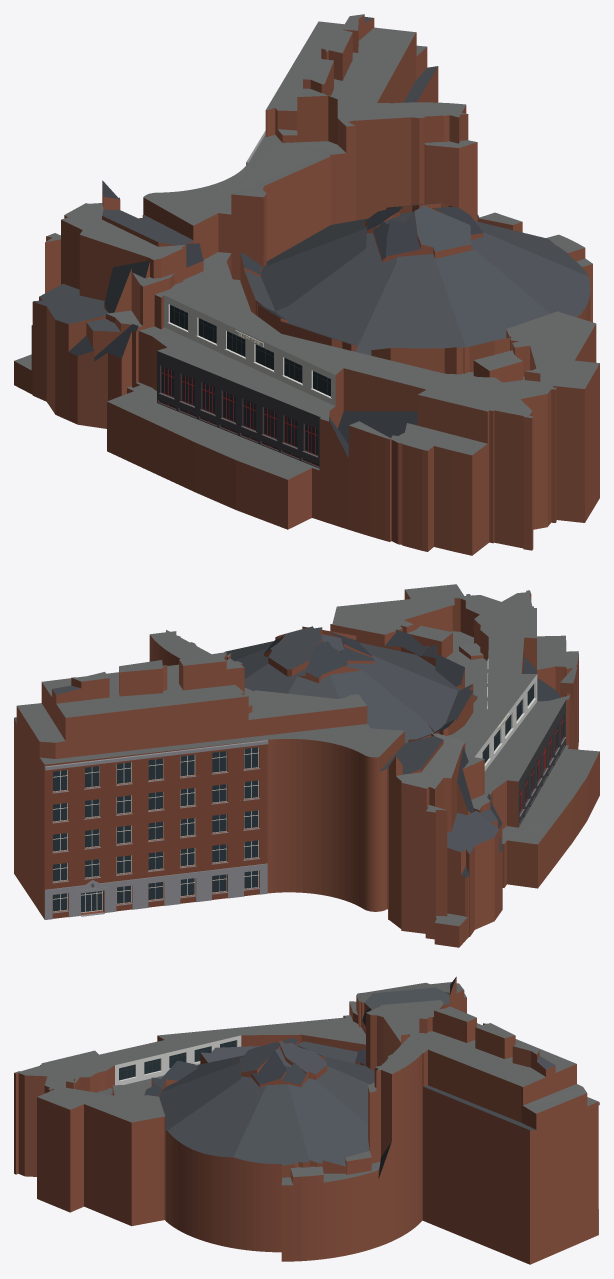
File: recipe-large-leidsekade-106-173447.glb
3 renders of one model, top to bottom at view 1: azimuth 30°, elevation 25°; view 2: azimuth 150°, elevation 25°; view 3: azimuth 270°, elevation 25°, orthographic. The views are drawn at different scales.
Visible parts, largest first — view 1: leidsekade-106-173447; view 2: leidsekade-106-173447; view 3: leidsekade-106-173447.
Boxes of the visible parts, bbox=[...] form: leidsekade-106-173447: bbox=[14, 14, 599, 555]; leidsekade-106-173447: bbox=[14, 584, 599, 947]; leidsekade-106-173447: bbox=[14, 976, 599, 1264].
Size of the model in its own units: 57.83 by 29.52 by 83.04.
